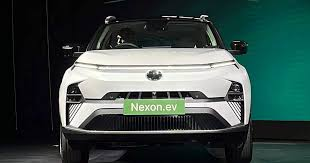Tata Nexon: (54, 13, 254, 159)
